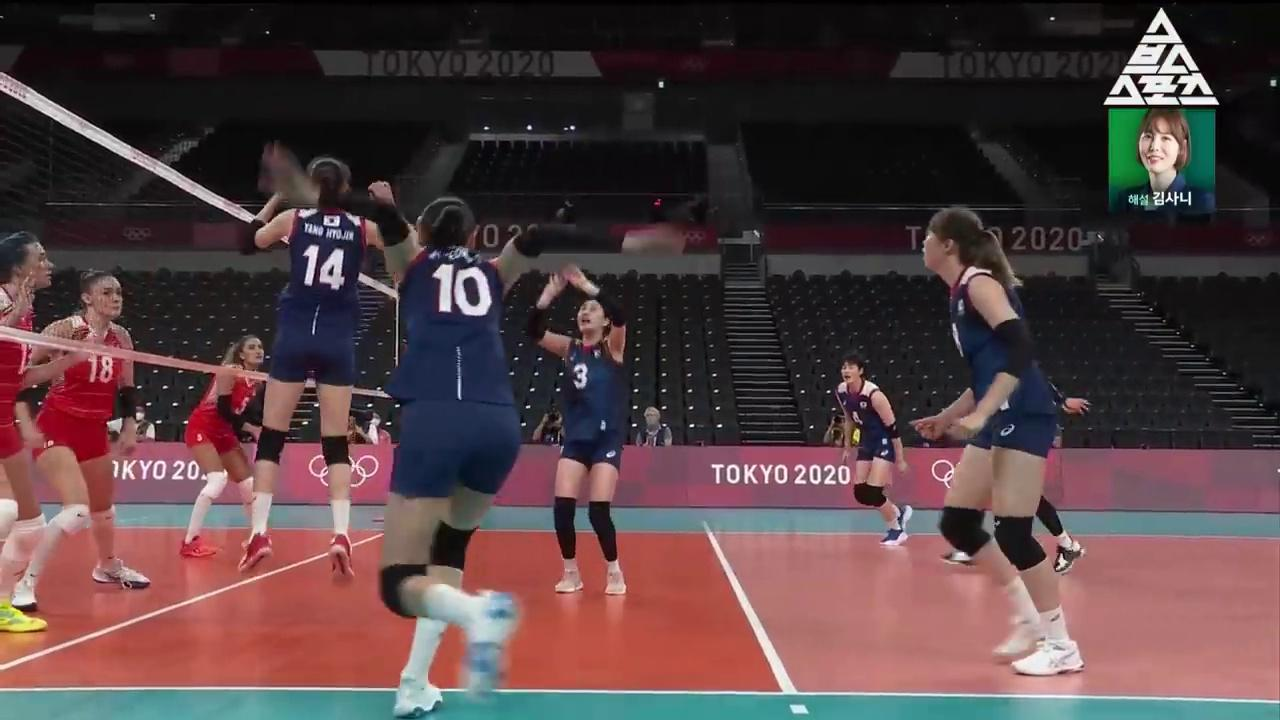player: (261, 143, 686, 720), (910, 208, 1084, 674), (239, 158, 409, 586), (11, 270, 151, 609), (0, 231, 98, 631), (527, 263, 626, 594), (184, 334, 269, 556), (836, 354, 911, 548)
